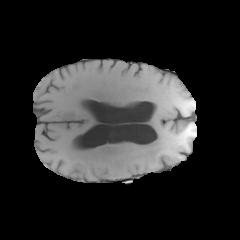glioma: (67, 96, 195, 171)
